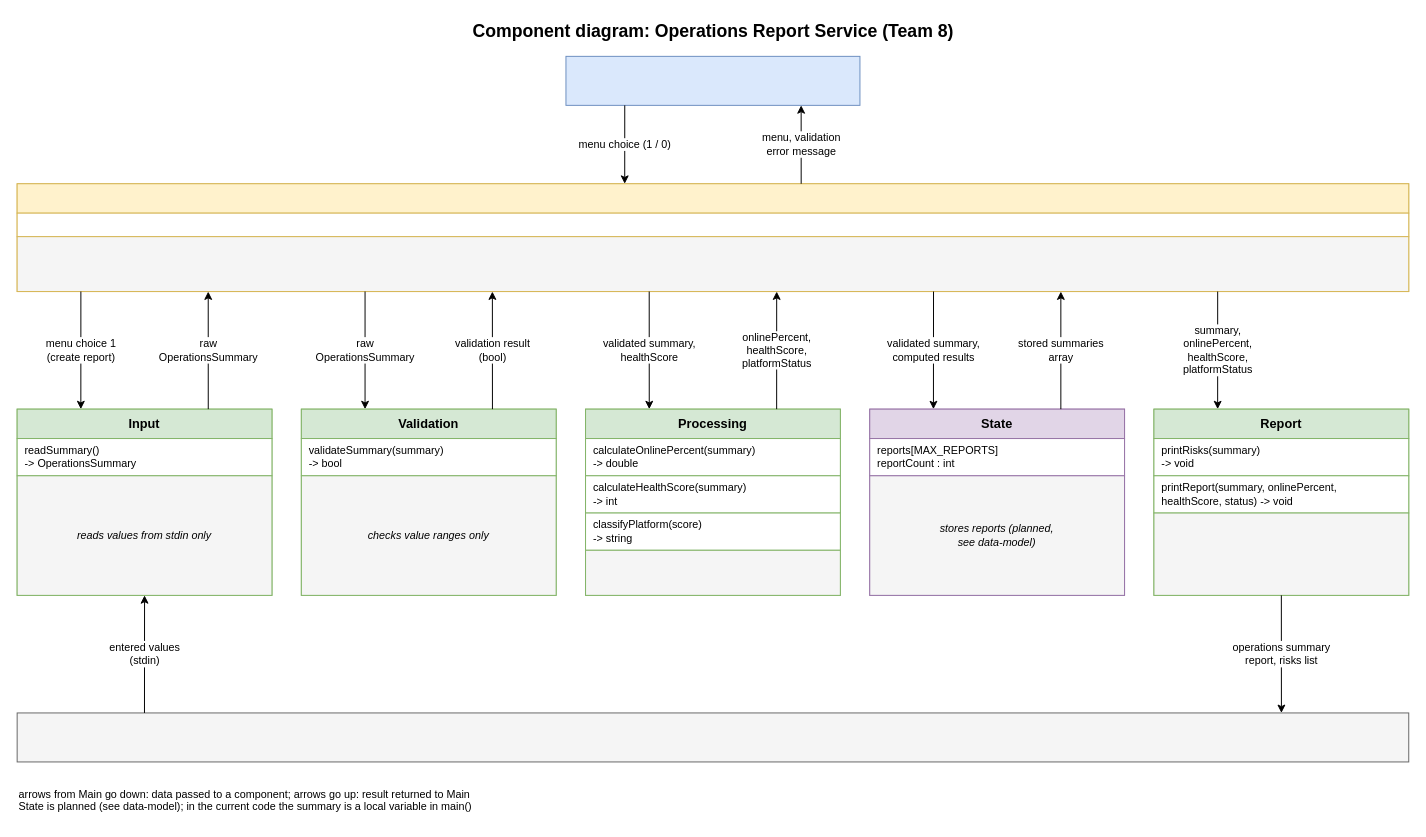
Image size: 1426x837. Some labels were removed from this diagram. The shapes that lost their labels are listed below. From the top down, each one's box as (x1, y1, x2, y2) in pixels, then its label:
(565, 55, 860, 105): Operator (console)
(16, 183, 1409, 213): Main - main()
(16, 212, 1409, 237): menu loop: do { show menu; read choice } while (choice != 0)
(16, 236, 1409, 292): only controls the menu and the order of calls; no calculations or checks inside
(585, 549, 840, 595): business logic: calculations
(1153, 512, 1409, 595): console output only
(16, 712, 1409, 762): Console (stdin / stdout)
